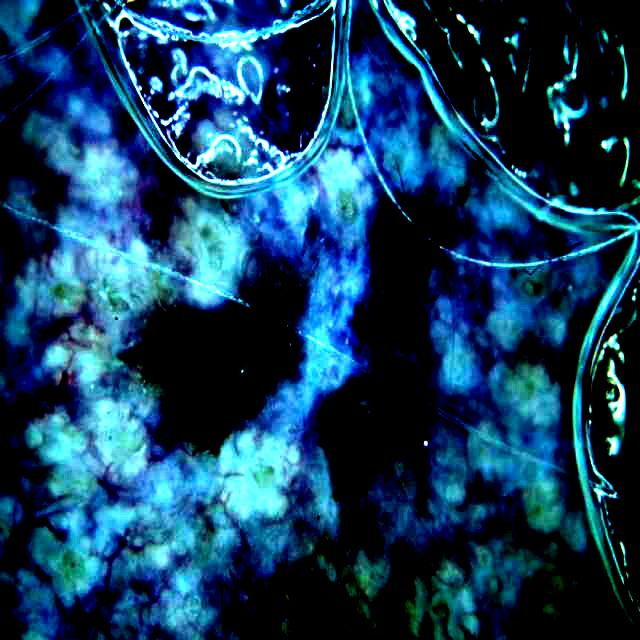AKIEC: (146, 310, 301, 449), (356, 222, 434, 359), (330, 380, 422, 464), (266, 280, 299, 318)
